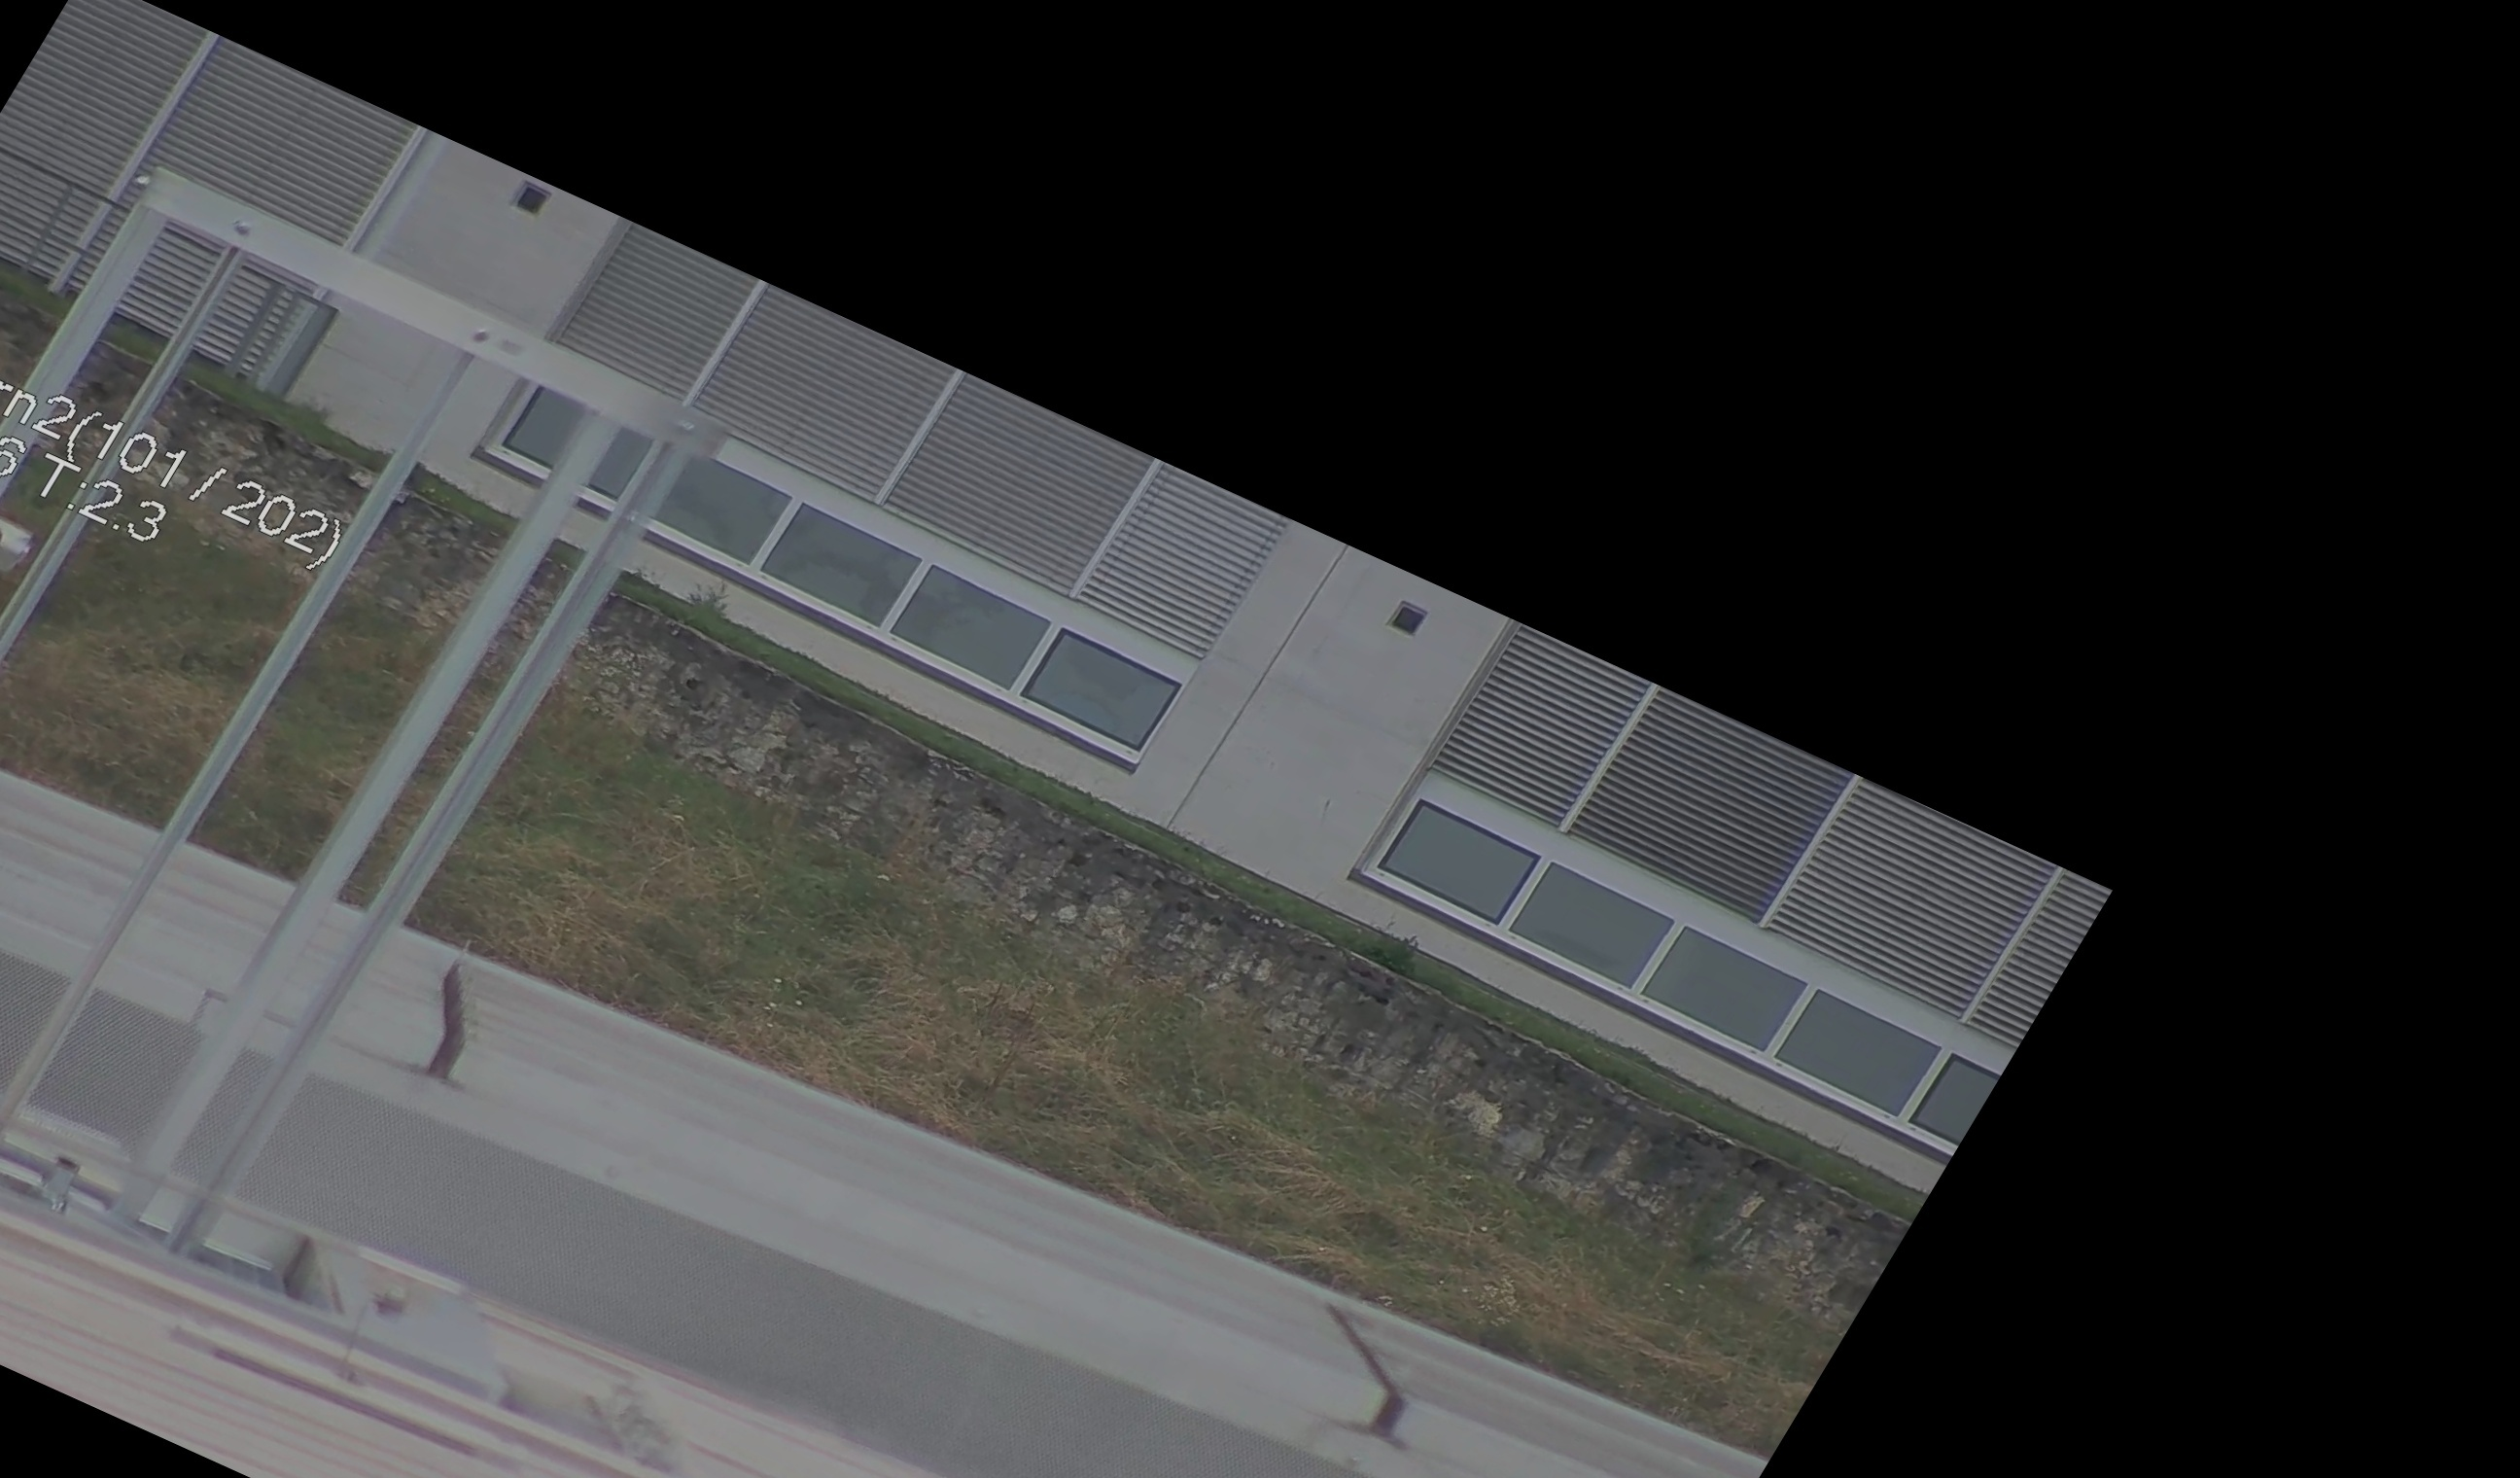Other: (364, 934, 529, 1101)
